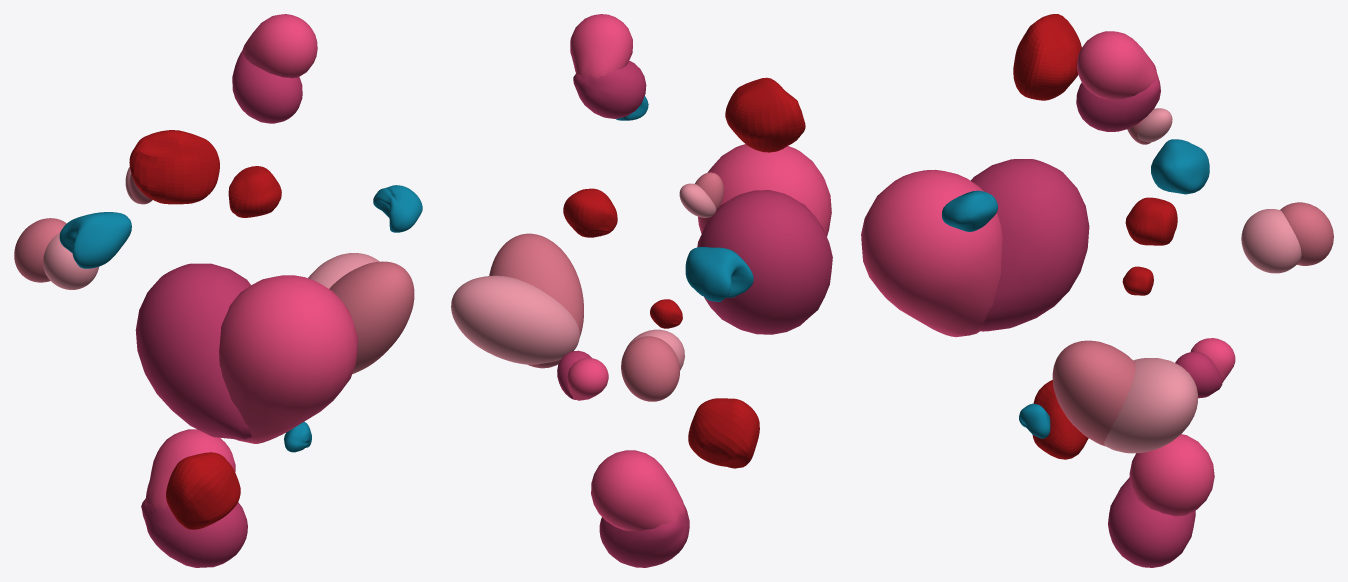
Rendered from asset.glb.
3 views of the same model, side by side, from view 1: azimuth 30°, elevation 25°; view 2: azimuth 150°, elevation 25°; view 3: azimuth 270°, elevation 25° (orthographic). The views are drawn at different scales.
Visible parts, largest first — view 1: Sphere.008, Sphere.007, Sphere.004, Sphere.016, Sphere.015, Sphere.005, Sphere.010, Sphere.009, Sphere.012, Sphere.006, Sphere.014, Sphere.018 (+4 smaller); view 2: Sphere.007, Sphere.003, Sphere.006, Sphere.008, Sphere.004, Sphere.016, Sphere.015, Sphere.010, Sphere.005, Sphere.018, Sphere.012, Sphere.009 (+7 smaller); view 3: Sphere.008, Sphere.007, Sphere.003, Sphere.004, Sphere.006, Sphere.005, Sphere.016, Sphere.010, Sphere.017, Sphere.009, Sphere.012, Sphere.018 (+8 smaller).
Boxes of the visible parts, x1,y1,x2,y2 form: Sphere.008: (219, 275, 357, 443); Sphere.007: (135, 263, 251, 439); Sphere.004: (329, 261, 414, 373); Sphere.016: (129, 130, 219, 204); Sphere.015: (166, 452, 240, 529); Sphere.005: (141, 499, 247, 567); Sphere.010: (242, 14, 317, 78); Sphere.009: (232, 50, 302, 123); Sphere.012: (59, 212, 131, 268); Sphere.006: (145, 429, 235, 511); Sphere.014: (228, 166, 281, 217); Sphere.018: (14, 218, 66, 282); Sphere.007: (697, 190, 832, 334); Sphere.003: (451, 275, 579, 364); Sphere.006: (591, 450, 685, 531); Sphere.008: (698, 144, 831, 236); Sphere.004: (489, 233, 583, 368); Sphere.016: (725, 77, 805, 152); Sphere.015: (688, 398, 759, 468); Sphere.010: (570, 14, 632, 80); Sphere.005: (599, 505, 689, 567); Sphere.018: (621, 336, 679, 401); Sphere.012: (685, 247, 753, 301); Sphere.009: (573, 61, 646, 118); Sphere.008: (861, 169, 1002, 337); Sphere.007: (970, 159, 1089, 331); Sphere.003: (1104, 358, 1197, 453); Sphere.004: (1052, 340, 1135, 446); Sphere.006: (1129, 434, 1214, 516); Sphere.005: (1108, 477, 1195, 567); Sphere.016: (1013, 14, 1081, 100); Sphere.010: (1077, 31, 1158, 99); Sphere.017: (1241, 209, 1301, 273); Sphere.009: (1076, 73, 1160, 131); Sphere.012: (1151, 139, 1209, 194); Sphere.018: (1280, 202, 1333, 265).
Bounding box in the file's own units: 13.45 × 22.27 × 17.09.
